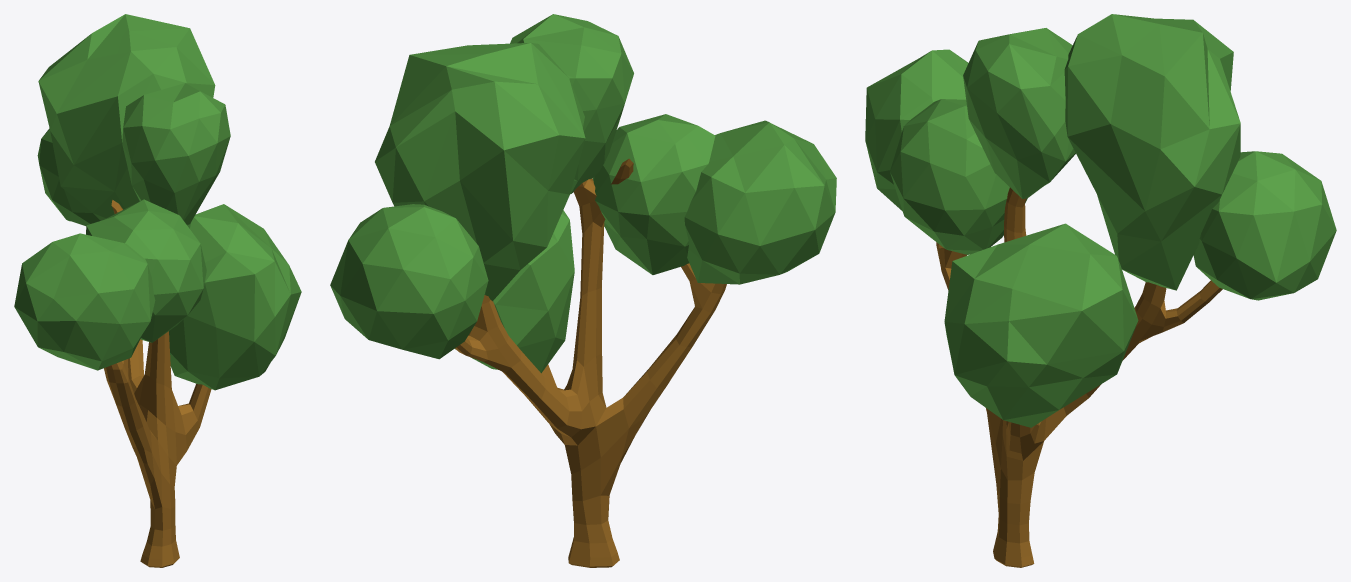
Rendered from lp-Tree_3.glb.
3 views of the same model, side by side, from view 1: azimuth 30°, elevation 25°; view 2: azimuth 150°, elevation 25°; view 3: azimuth 270°, elevation 25° (orthographic). The views are drawn at different scales.
Parts seen in each view (by area): view 1: lp-Tree_3; view 2: lp-Tree_3; view 3: lp-Tree_3.
Boxes of the visible parts, box(x1,y1,x2,y2) form: lp-Tree_3: box(14, 14, 301, 567); lp-Tree_3: box(330, 14, 836, 567); lp-Tree_3: box(865, 14, 1336, 567).
Size of the model in its own units: 7.52 by 11.16 by 8.64.
